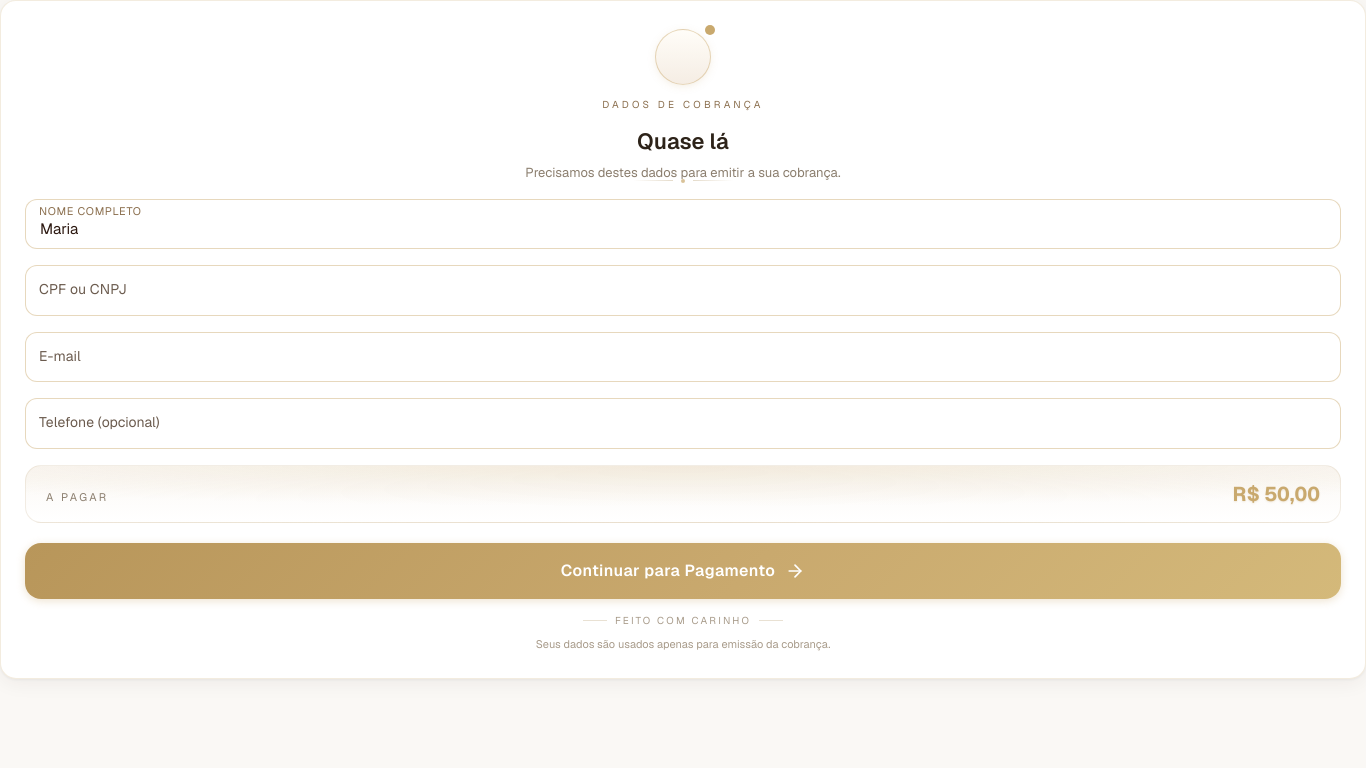
Test: PublicBillingForm › shows validation error for invalid email
Valid CPF (Receita test value)
Type "52998224725" into the field labelled "CPF ou CNPJ" at (683, 290), box [25, 265, 1341, 316]
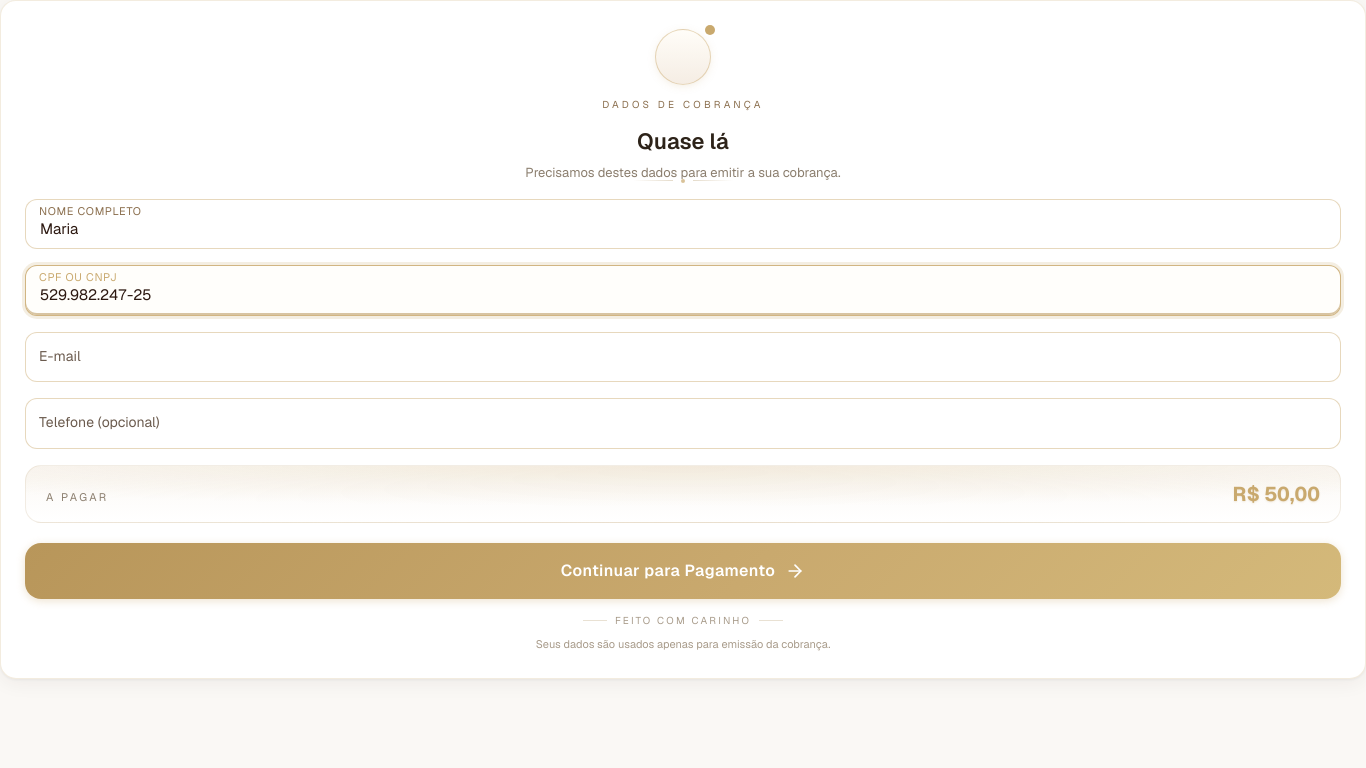
Type "not-an-email" into the field labelled "E-mail" at (683, 357), box [25, 332, 1341, 382]
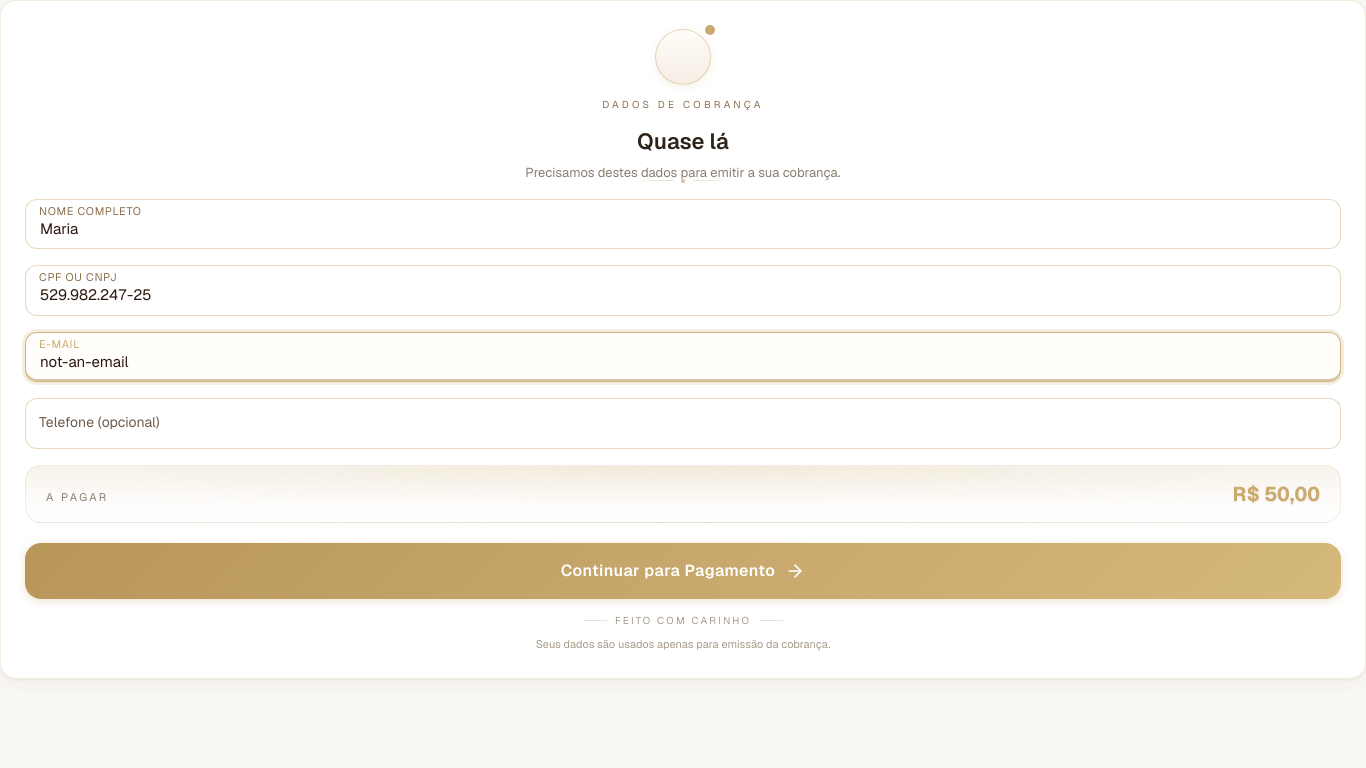
Click the button "Continuar para Pagamento" at (683, 571), box [25, 543, 1341, 599]
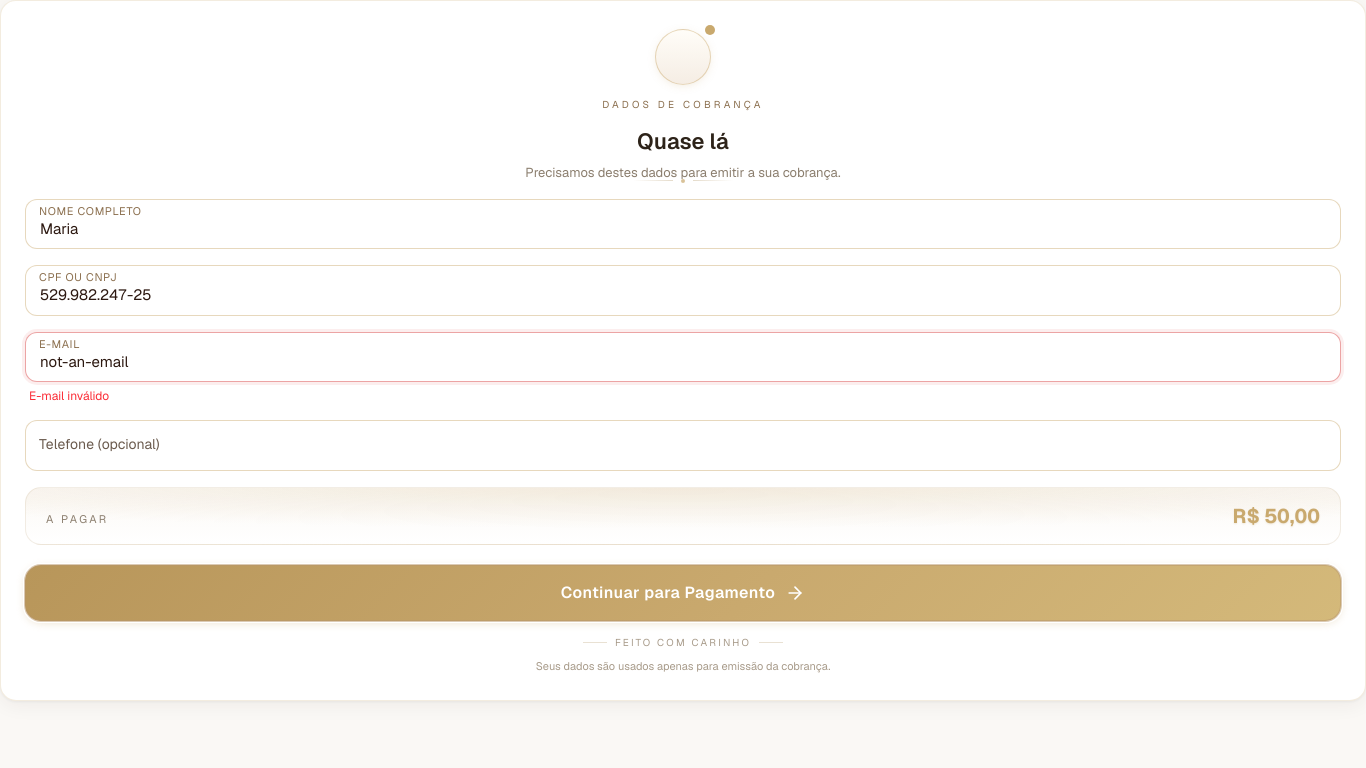
Now the text "E-mail inválido" is shown, box [29, 388, 109, 404]
